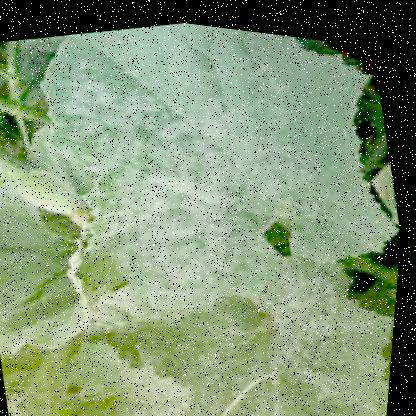PowderyMildew: (58, 40, 280, 307)
